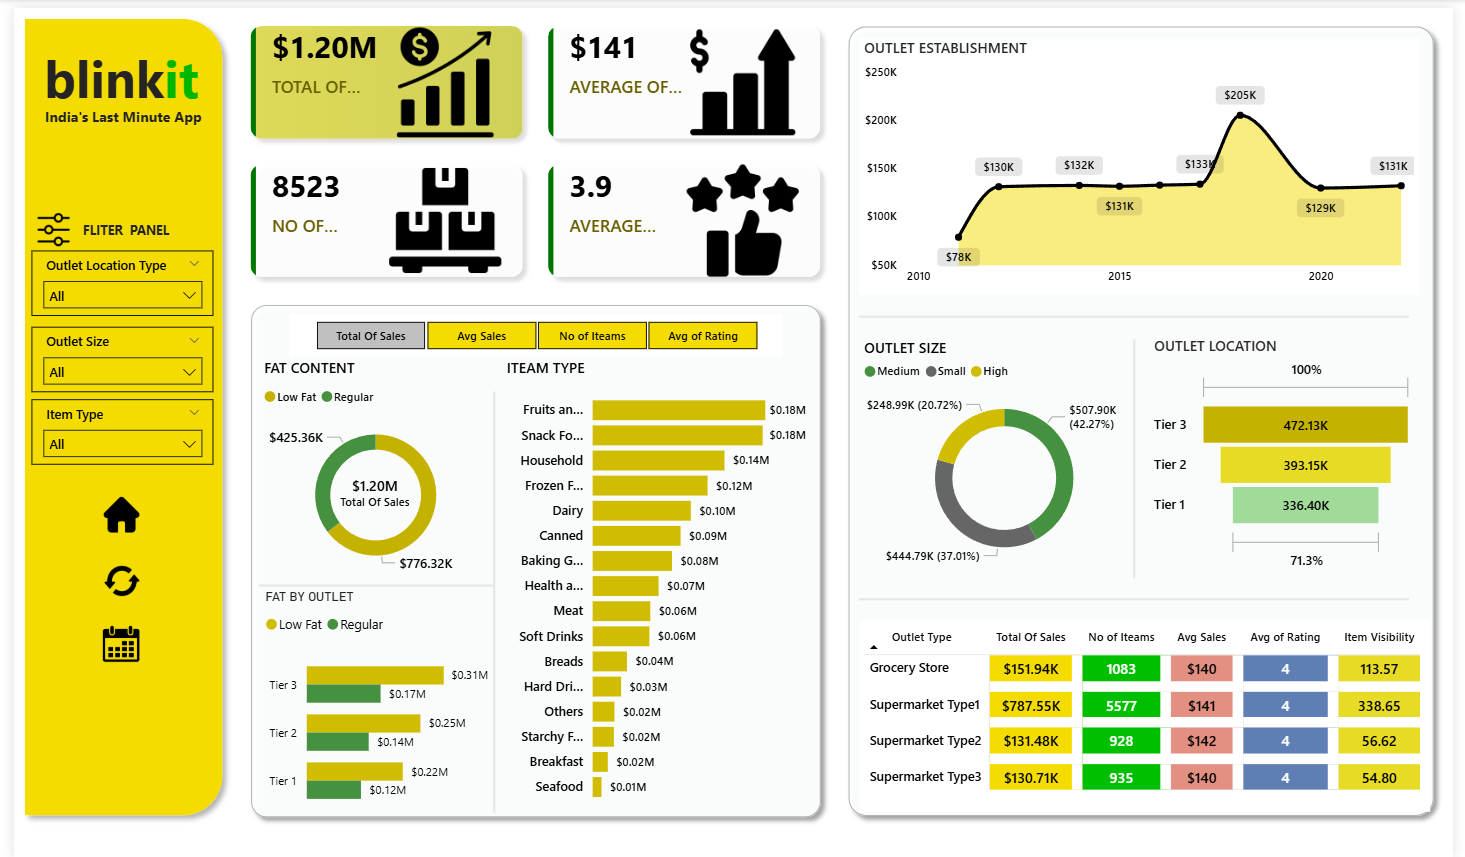

The dashboard page shown, as its layout file describes it:
{"tool":"powerbi","page":{"name":"Page 1","canvas":[1355,800],"ordinal":0},"visuals":[{"type":"shape","box":[0,0,206.2,770],"z":0},{"type":"textbox","box":[23.3,28.3,165,78.3],"z":1000},{"type":"textbox","box":[18.3,88.3,168.3,35],"z":2000},{"type":"cardVisual","fields":{"Data":["BlinkIT Grocery Data.Total Of Sales","BlinkIT Grocery Data.Avg Sales","BlinkIT Grocery Data.No of Iteams","BlinkIT Grocery Data.Avg of Rating"]},"box":[205.7,0,570,270],"z":3000},{"type":"shape","box":[214.3,270,554.3,500],"z":4000},{"type":"donutChart","title":"FAT CONTENT","fields":{"Y":["BlinkIT Grocery Data.Total Of Sales"],"Category":["BlinkIT Grocery Data.Item Fat Content"]},"box":[231,329,220,213],"z":5000},{"type":"slicer","fields":{"Values":["Metrics.Metrics"]},"box":[258.8,288.8,465,40],"z":6000},{"type":"cardVisual","fields":{"Data":["BlinkIT Grocery Data.Total Of Sales"]},"box":[288.8,425,103.8,61.2],"z":7000},{"type":"clusteredBarChart","title":"FAT BY OUTLET","fields":{"Y":["BlinkIT Grocery Data.Total Of Sales"],"Category":["BlinkIT Grocery Data.Outlet Location Type"],"Series":["BlinkIT Grocery Data.Item Fat Content"]},"box":[231.2,547.5,220,222.5],"z":8000},{"type":"shape","box":[231,523,220,40],"z":9000},{"type":"shape","box":[436,361,31,396],"z":10000},{"type":"barChart","title":"ITEAM TYPE","fields":{"Y":["BlinkIT Grocery Data.Total Of Sales"],"Category":["BlinkIT Grocery Data.Item Type"]},"box":[459,329,292,428],"z":11000},{"type":"shape","box":[776.2,8.8,568.8,761.2],"z":12000},{"type":"lineChart","title":"OUTLET ESTABLISHMENT","fields":{"Y":["BlinkIT Grocery Data.Total Of Sales"],"Category":["BlinkIT Grocery Data.Outlet Establishment Year"]},"box":[795,28.8,527.5,241.2],"z":13000},{"type":"shape","box":[795,270,517.5,40],"z":14000},{"type":"donutChart","title":"OUTLET SIZE","fields":{"Category":["BlinkIT Grocery Data.Outlet Size"],"Y":["BlinkIT Grocery Data.Total Of Sales"]},"box":[795,310,273.8,225],"z":15000},{"type":"shape","box":[1040,311.2,28.8,225],"z":16000},{"type":"funnel","title":"OUTLET LOCATION","fields":{"Y":["Sum(BlinkIT Grocery Data.Sales)"],"Category":["BlinkIT Grocery Data.Outlet Location Type"]},"box":[1068.8,308.8,253.8,226.2],"z":17000},{"type":"shape","box":[795,536.2,517.5,40],"z":18000},{"type":"pivotTable","fields":{"Rows":["BlinkIT Grocery Data.Outlet Type"],"Values":["BlinkIT Grocery Data.Total Of Sales","BlinkIT Grocery Data.No of Iteams","BlinkIT Grocery Data.Avg Sales","BlinkIT Grocery Data.Avg of Rating","Sum(BlinkIT Grocery Data.Item Visibility)"]},"box":[795,576.2,537.5,180],"z":19000},{"type":"slicer","fields":{"Values":["BlinkIT Grocery Data.Outlet Location Type"]},"box":[16.2,228.8,171.2,61.2],"z":20000},{"type":"slicer","fields":{"Values":["BlinkIT Grocery Data.Outlet Size"]},"box":[16.2,300,171.2,61.2],"z":21000},{"type":"slicer","fields":{"Values":["BlinkIT Grocery Data.Item Type"]},"box":[16.2,368.8,171.2,61.2],"z":22000},{"type":"image","box":[78.9,455.3,44.5,43.2],"z":23000},{"type":"image","box":[78.9,517.6,45,43],"z":24000},{"type":"image","box":[78.9,576.1,44.5,44.5],"z":25000},{"type":"image","box":[16.5,188.2,42,40.7],"z":26000},{"type":"textbox","box":[60,193.8,93.8,28.8],"z":26001}]}

Visuals, with their boxes in screenshot pixels (x1, y1, x2, y2), scaled from the page's 1355x800 canvas onto the 1465x857 screenshot:
shape: (0, 0, 223, 825)
textbox: (25, 30, 204, 114)
textbox: (20, 95, 202, 132)
cardVisual - BlinkIT Grocery Data.Total Of Sales x BlinkIT Grocery Data.Avg Sales: (222, 0, 839, 289)
shape: (232, 289, 831, 825)
"FAT CONTENT" donutChart: (250, 352, 488, 581)
slicer - Metrics.Metrics: (280, 309, 783, 352)
cardVisual - BlinkIT Grocery Data.Total Of Sales: (312, 455, 424, 521)
"FAT BY OUTLET" clusteredBarChart: (250, 587, 488, 825)
shape: (250, 560, 488, 603)
shape: (471, 387, 505, 811)
"ITEAM TYPE" barChart: (496, 352, 812, 811)
shape: (839, 9, 1454, 825)
"OUTLET ESTABLISHMENT" lineChart: (860, 31, 1430, 289)
shape: (860, 289, 1419, 332)
"OUTLET SIZE" donutChart: (860, 332, 1156, 573)
shape: (1124, 333, 1156, 574)
"OUTLET LOCATION" funnel: (1156, 331, 1430, 573)
shape: (860, 574, 1419, 617)
pivotTable - BlinkIT Grocery Data.Outlet Type x BlinkIT Grocery Data.Total Of Sales: (860, 617, 1441, 810)
slicer - BlinkIT Grocery Data.Outlet Location Type: (18, 245, 203, 311)
slicer - BlinkIT Grocery Data.Outlet Size: (18, 321, 203, 387)
slicer - BlinkIT Grocery Data.Item Type: (18, 395, 203, 461)
image: (85, 488, 133, 534)
image: (85, 554, 134, 601)
image: (85, 617, 133, 665)
image: (18, 202, 63, 245)
textbox: (65, 208, 166, 238)
